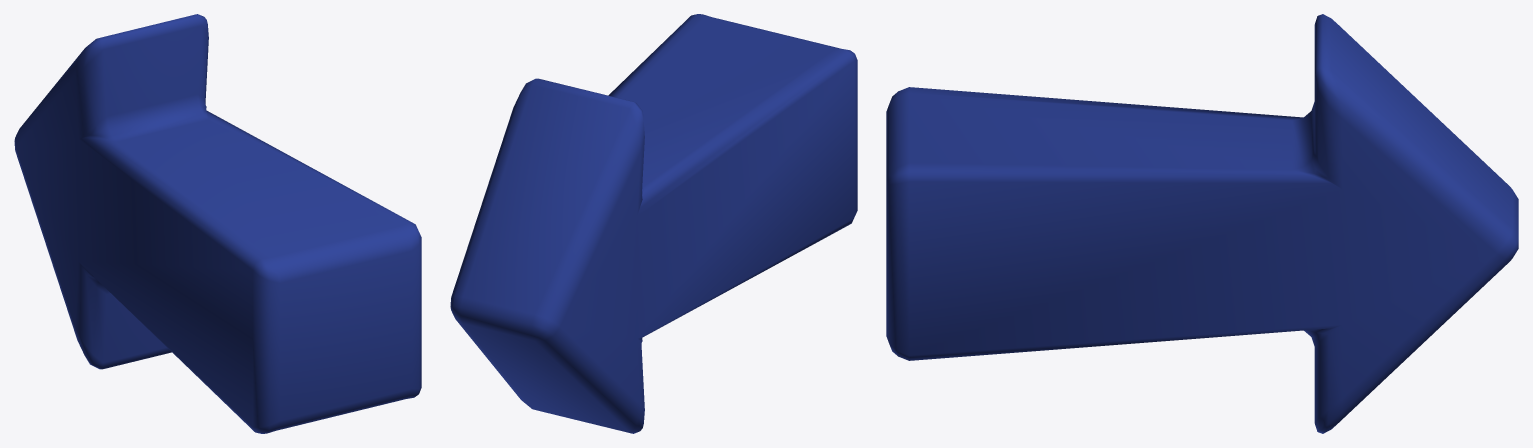
Rendered from Arrow.fbx.
The picture shows the model from 3 angles, left to right: view 1: azimuth 30°, elevation 25°; view 2: azimuth 150°, elevation 25°; view 3: azimuth 270°, elevation 25°; orthographic projection. The views are drawn at different scales.
Parts seen in each view (by area): view 1: Arrow; view 2: Arrow; view 3: Arrow.
Part boxes in pixels (bbox=[...]): Arrow: bbox=[14, 14, 421, 433]; Arrow: bbox=[450, 14, 857, 433]; Arrow: bbox=[886, 14, 1518, 433].
Bounding box in the file's own units: 29.59 × 56.72 × 88.55.
